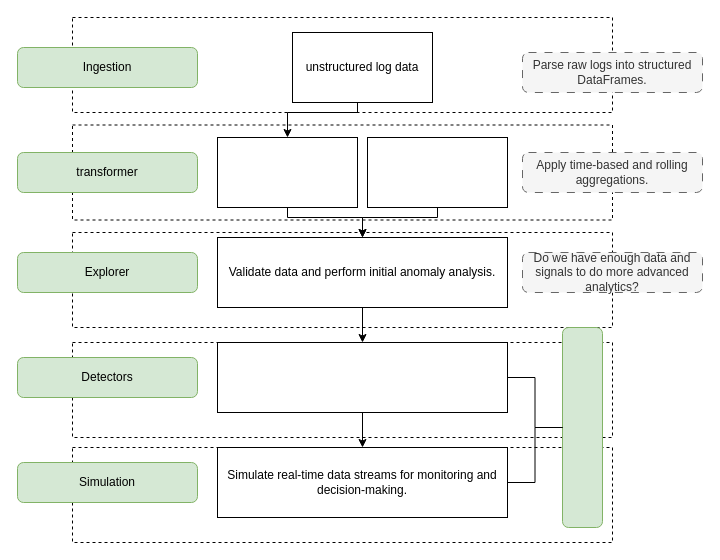
Some shapes in this 720 by 560 pixel diagram are drawn without their labels. Each missing label, with the centre of its shape:
"Apply advanced anomaly detection algorithms in batch." belongs at (362,377).
"Other telemetry data or time series" belongs at (437,172).
"structured log data" belongs at (287,172).
"Visualization" belongs at (582,427).
